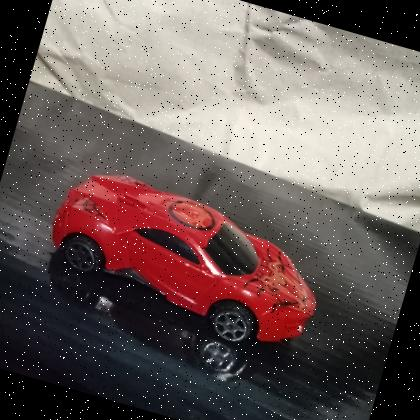Car: (51, 175, 316, 343)
